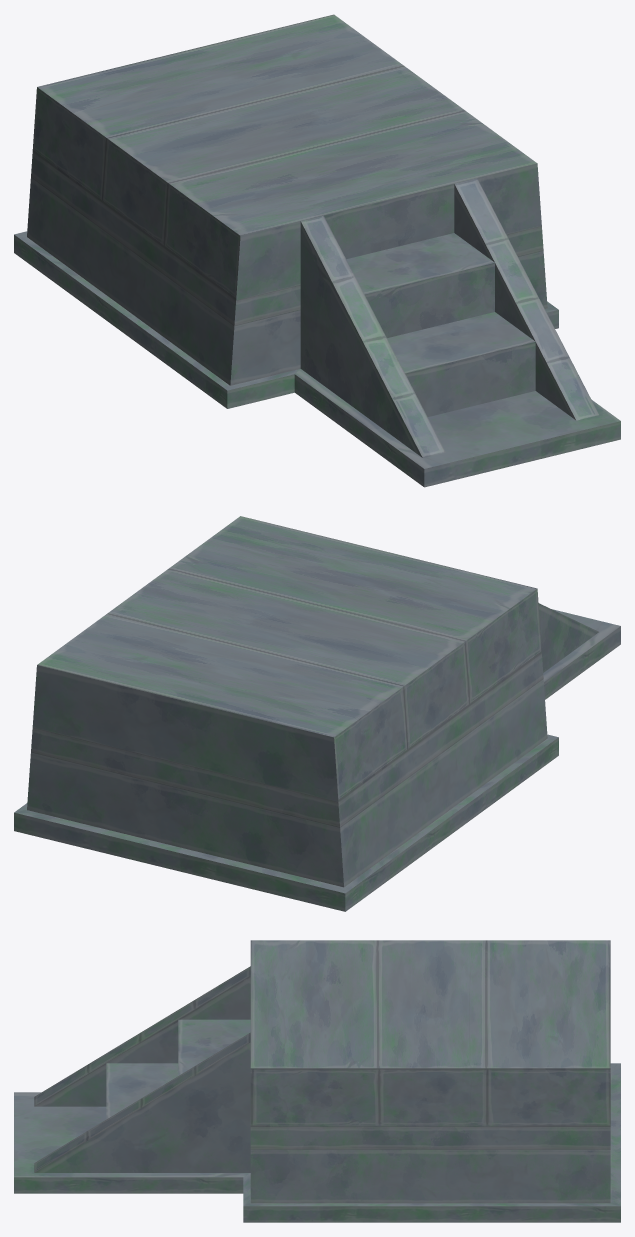
Rendered from SM_Stone_Stairs_Platform.fbx.
The picture shows the model from 3 angles, top to bottom: view 1: azimuth 30°, elevation 25°; view 2: azimuth 150°, elevation 25°; view 3: azimuth 270°, elevation 25°; orthographic projection. The views are drawn at different scales.
Visible parts, largest first — view 1: Stone_stairs_platform; view 2: Stone_stairs_platform; view 3: Stone_stairs_platform.
Boxes of the visible parts, <box> form: Stone_stairs_platform: <box>14,14,620,487</box>; Stone_stairs_platform: <box>14,516,620,911</box>; Stone_stairs_platform: <box>14,940,620,1222</box>.
Bounding box in the file's own units: 0.9403 × 0.45 × 1.69.
